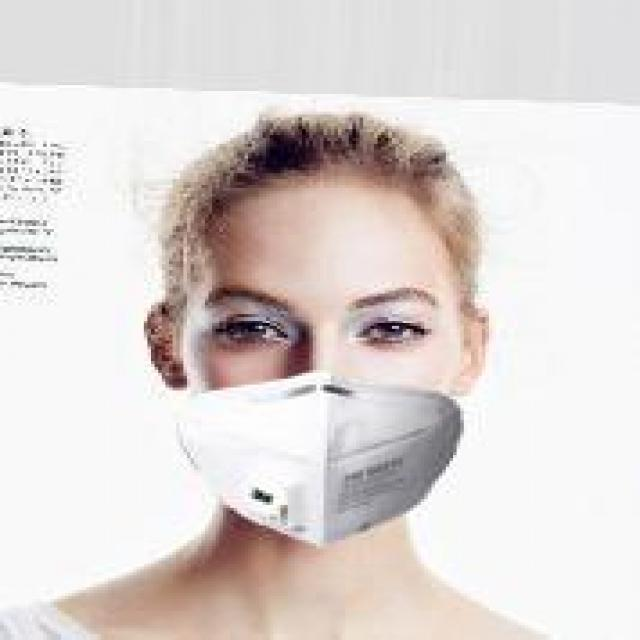mask: (64, 47, 536, 575)
